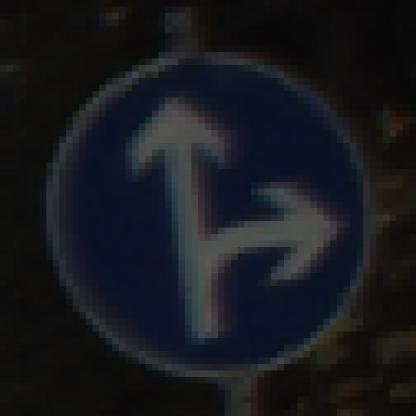Straight or Right: (41, 40, 384, 378)
